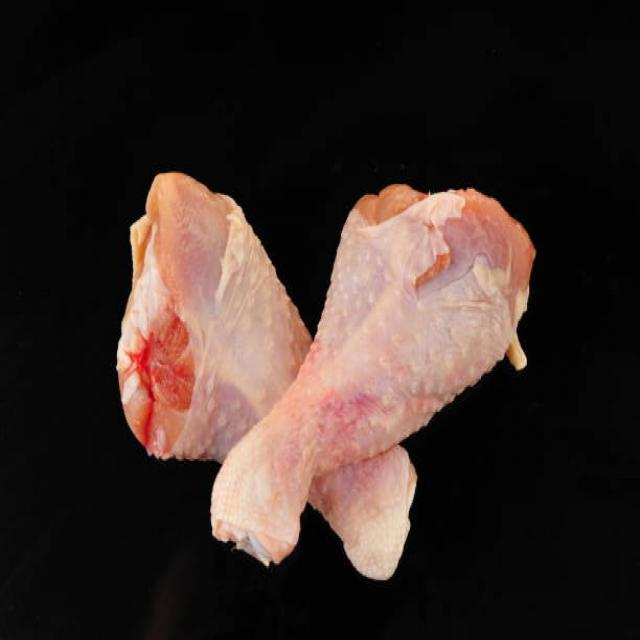Chicken: (227, 182, 534, 562)
